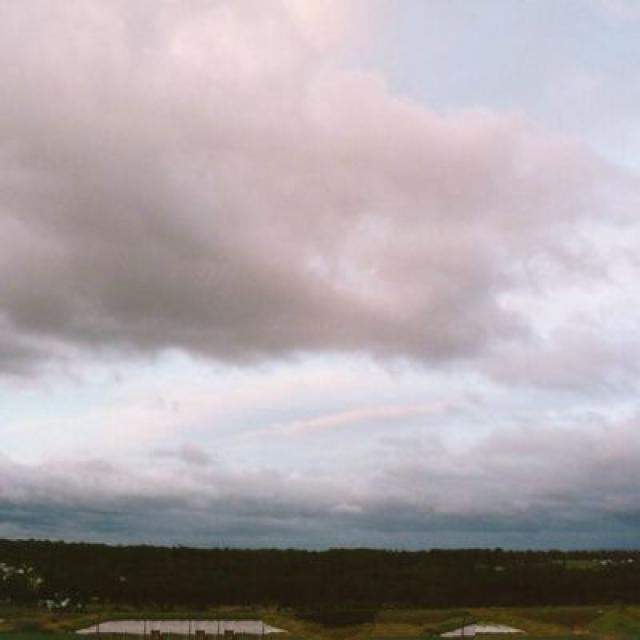St: (1, 1, 640, 404)
